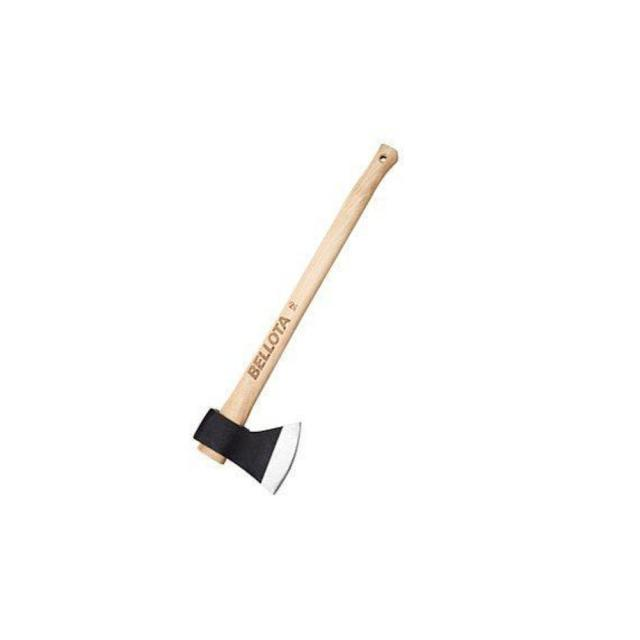Kapak: (218, 149, 394, 493)
